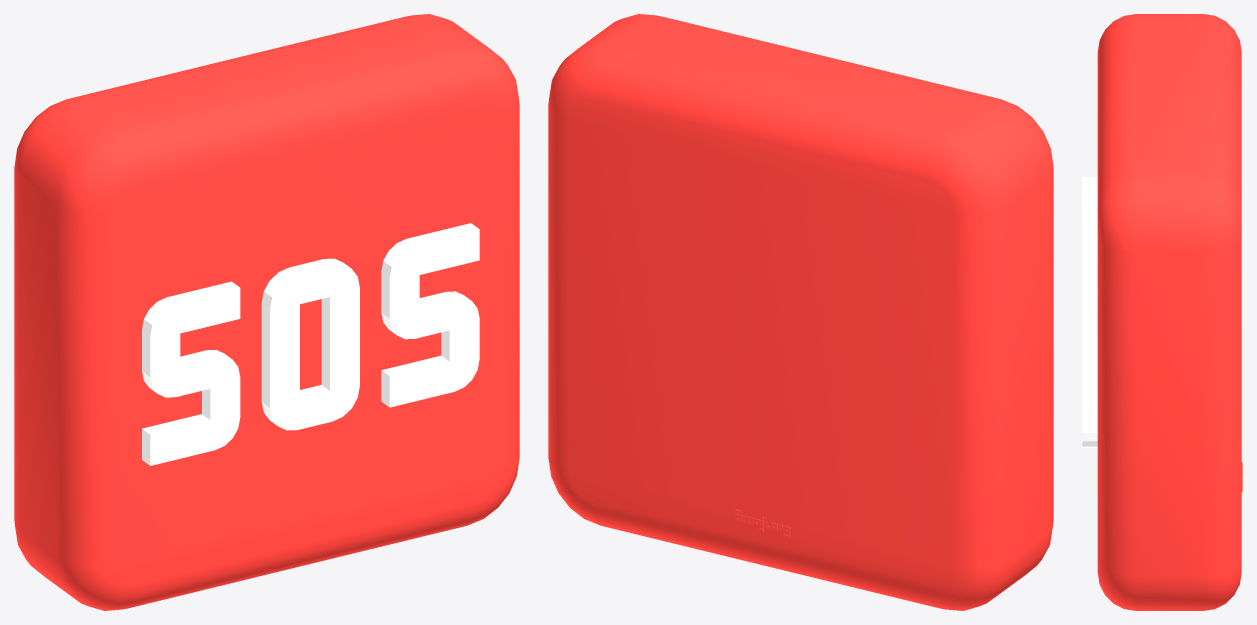
Rendered from sos_button.gltf.
3 views of the same model, side by side, from view 1: azimuth 30°, elevation 25°; view 2: azimuth 150°, elevation 25°; view 3: azimuth 270°, elevation 25° (orthographic). The views are drawn at different scales.
Parts seen in each view (by area): view 1: Cube.6648; view 2: Cube.6648; view 3: Cube.6648.
Part boxes in pixels (x1,y1,x2,y2): Cube.6648: [14, 14, 519, 610]; Cube.6648: [548, 14, 1053, 610]; Cube.6648: [1082, 14, 1242, 610].
Bounding box in the file's own units: 2.2 × 2.2 × 0.7337.
Materials: 1 (1 with a texture image).
